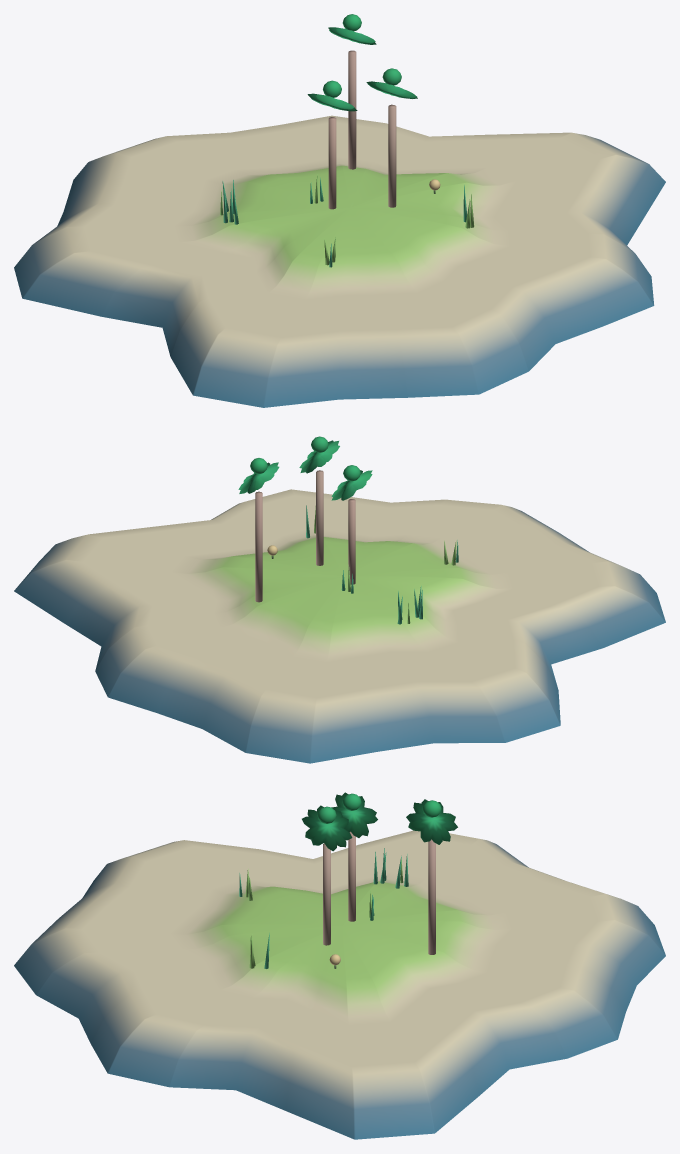
The model's file is terrain_island_08.glb.
The picture shows the model from 3 angles, top to bottom: view 1: azimuth 30°, elevation 25°; view 2: azimuth 150°, elevation 25°; view 3: azimuth 270°, elevation 25°; orthographic projection. The views are drawn at different scales.
Visible parts, largest first — view 1: island_terrain, veg_tree2_palm_trunk, veg_tree0_palm_trunk, veg_tree1_palm_trunk; view 2: island_terrain, veg_tree2_palm_trunk, veg_tree0_palm_trunk, veg_tree1_palm_trunk; view 3: island_terrain, veg_tree2_palm_trunk, veg_tree0_palm_trunk, veg_tree1_palm_trunk.
Part boxes in pixels (box(x1,y1,x2,y2)): island_terrain: box(14, 115, 665, 407); veg_tree2_palm_trunk: box(348, 50, 356, 169); veg_tree0_palm_trunk: box(388, 104, 396, 207); veg_tree1_palm_trunk: box(328, 117, 336, 209); island_terrain: box(14, 489, 665, 763); veg_tree2_palm_trunk: box(255, 491, 262, 602); veg_tree0_palm_trunk: box(316, 470, 323, 565); veg_tree1_palm_trunk: box(348, 499, 355, 584); island_terrain: box(14, 830, 665, 1139); veg_tree2_palm_trunk: box(428, 839, 435, 954); veg_tree0_palm_trunk: box(323, 843, 330, 945); veg_tree1_palm_trunk: box(348, 831, 355, 921).
Bounding box in the file's own units: 172 × 56.2 × 162.
